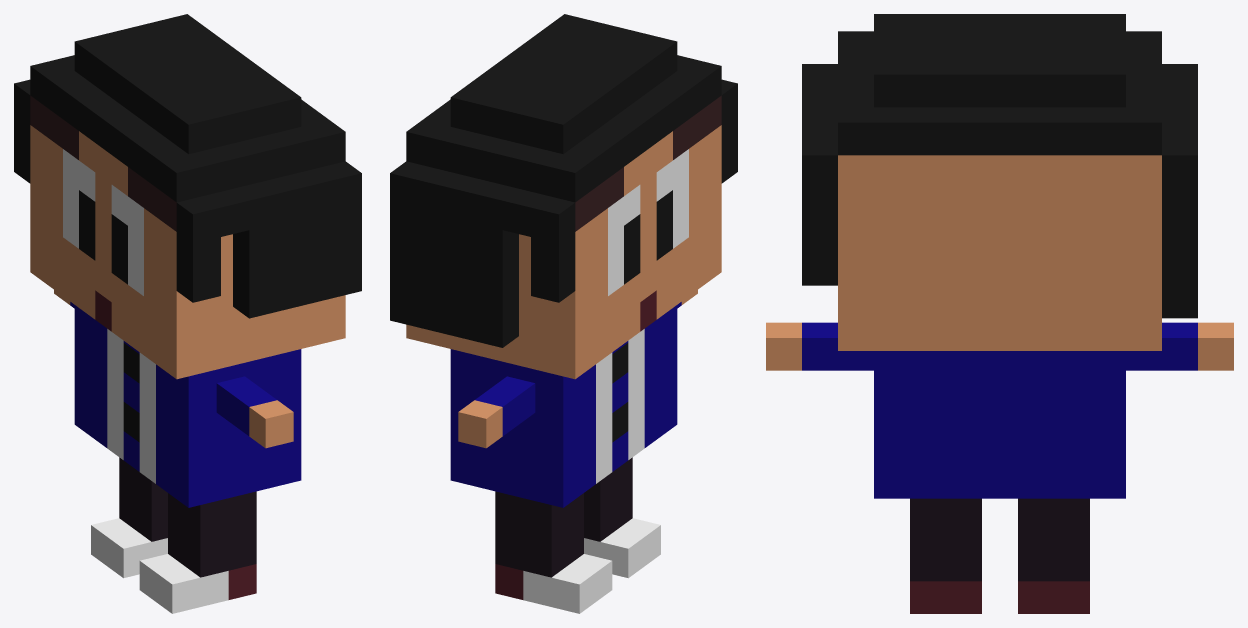
Rendered from Char07.obj.
3 renders of one model, left to right at view 1: azimuth 30°, elevation 25°; view 2: azimuth 150°, elevation 25°; view 3: azimuth 270°, elevation 25°, orthographic. The views are drawn at different scales.
Bounding box in the file's own units: 0.6 × 1.7 × 1.3.
Materials: 1 (1 with a texture image).
